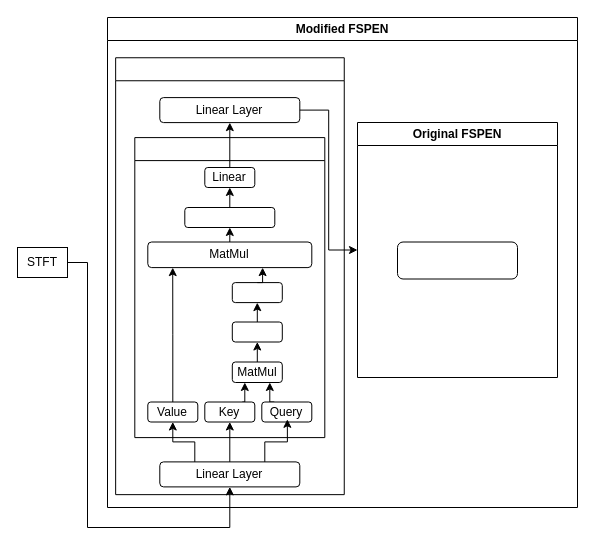
The diagram is 595 pixels wide and 553 high, and some of its shapes have lost their labels. Each missing label, with the box of its shape:
Concatenate: (184, 206, 275, 228)
FrequencyAttention (Module): (115, 57, 344, 495)
MultiHeadAttention: (134, 137, 325, 438)
Same Arhitecture: (396, 241, 518, 279)
Scale: (231, 321, 282, 342)
Softmax: (231, 282, 282, 303)
